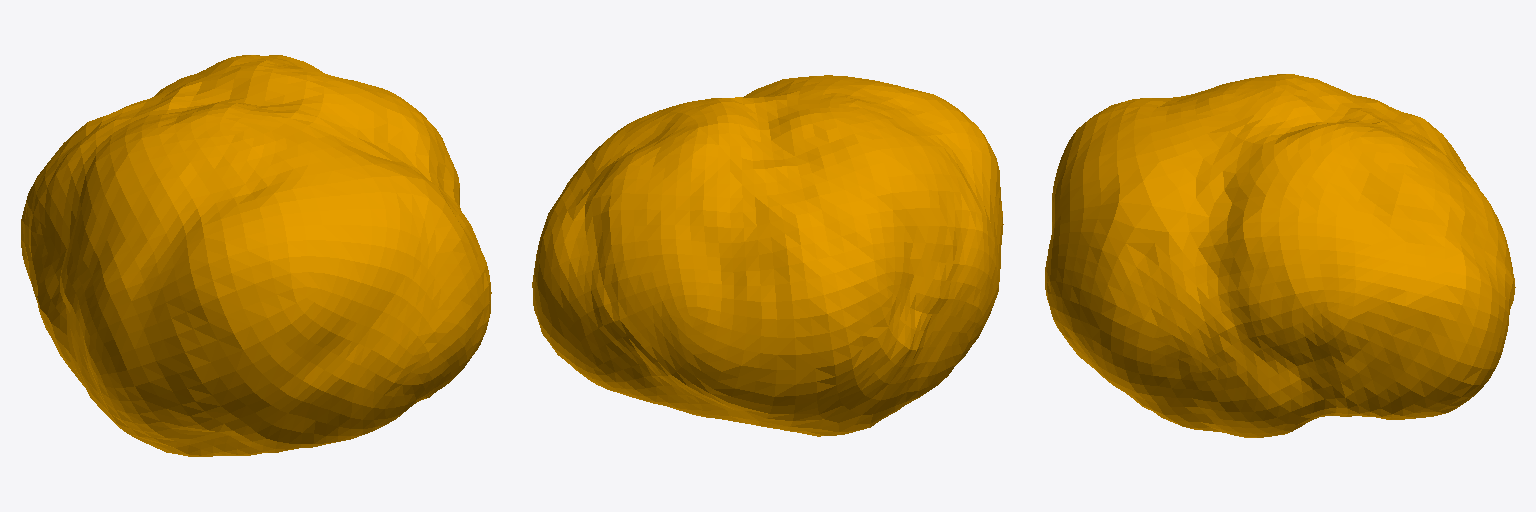
URDF robot description (rock):
<?xml version="1.0" ?>
<robot name="rock">
  <link name="rock">
    <inertial>
      <mass value="0.204"/>
      <origin rpy="0 0 0" xyz="0 0 0"/>
      <inertia ixx="0.000204" ixy="0" ixz="0" iyy="0.000204" iyz="0" izz="0.000204"/>
    </inertial>
    <collision name="rock_collision">
      <origin rpy="0 0 0" xyz="0 0 0"/>
      <geometry>
        <mesh filename="package://rocks/visual/177.dae" scale="1 1 1"/>
      </geometry>
    </collision>
    <visual name="rock_visual">
      <origin rpy="0 0 0" xyz="0 0 0"/>
      <geometry>
        <mesh filename="package://rocks/visual/177.dae" scale="1 1 1"/>
      </geometry>
    </visual>
  </link>
</robot>

--- What the picture shows (computed from the rendered views, not written in the file) ---
The picture shows the robot from 3 angles, left to right: view 1: azimuth 30°, elevation 25°; view 2: azimuth 150°, elevation 25°; view 3: azimuth 270°, elevation 25°; orthographic projection.
Model rock with 1 links and 0 joints (none), rooted at rock, posed all joints at 0.
Visible links, largest first — view 1: rock; view 2: rock; view 3: rock.
Link boxes in pixels (bbox=[...]): rock: bbox=[21, 55, 491, 456]; rock: bbox=[532, 75, 1003, 436]; rock: bbox=[1045, 74, 1515, 437].
Bounding box of the posed robot: 0.0799 × 0.0874 × 0.0632 m (x, y, z).
1 mesh visuals loaded from 1 distinct referenced files (1 Collada DAE).